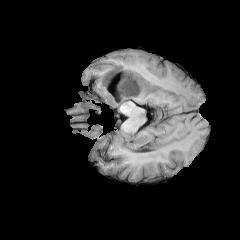glioma: (99, 65, 147, 104)
